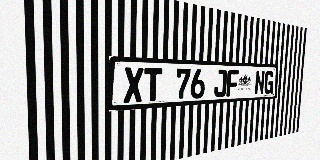6: (190, 69, 205, 99)
7: (175, 68, 191, 100)
F: (226, 70, 239, 97)
G: (264, 71, 274, 94)
J: (214, 69, 227, 97)
N: (254, 70, 265, 95)
T: (144, 68, 162, 102)
X: (124, 67, 144, 103)
